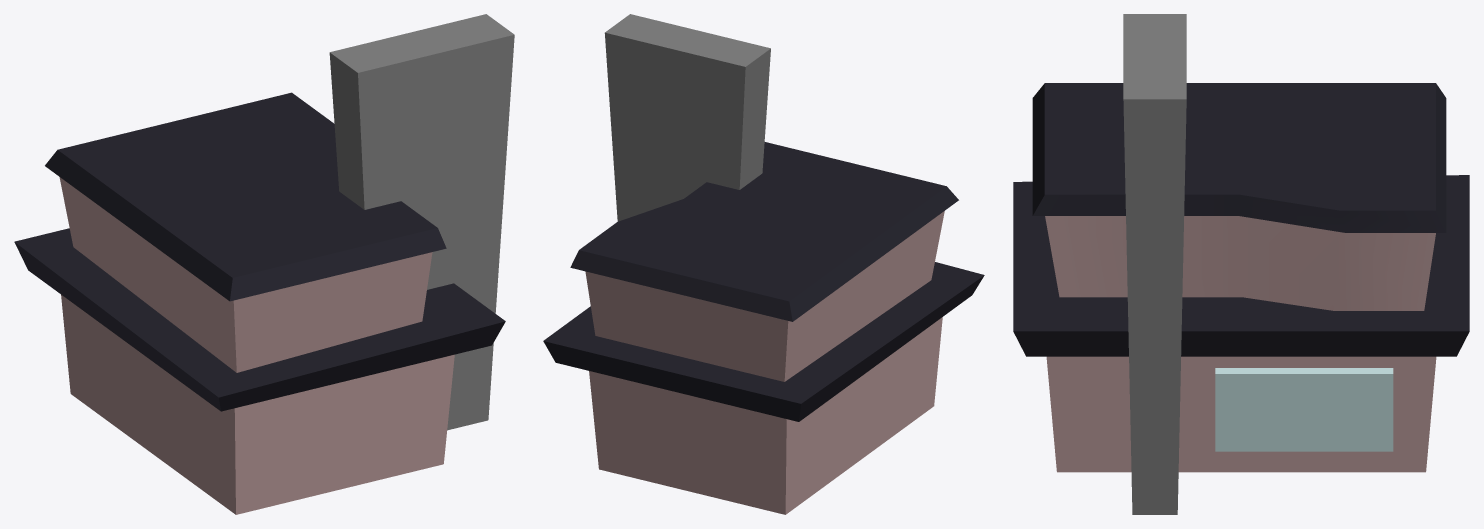
Rendered from Lvl5.fbx.
3 views of the same model, side by side, from view 1: azimuth 30°, elevation 25°; view 2: azimuth 150°, elevation 25°; view 3: azimuth 270°, elevation 25° (orthographic). The views are drawn at different scales.
Parts seen in each view (by area): view 1: Lvl5; view 2: Lvl5; view 3: Lvl5.
Boxes of the visible parts, box(x1,y1,x2,y2) form: Lvl5: box(14, 14, 514, 514); Lvl5: box(543, 14, 984, 514); Lvl5: box(1013, 14, 1469, 514).
Size of the model in its own units: 292 by 309 by 299.
